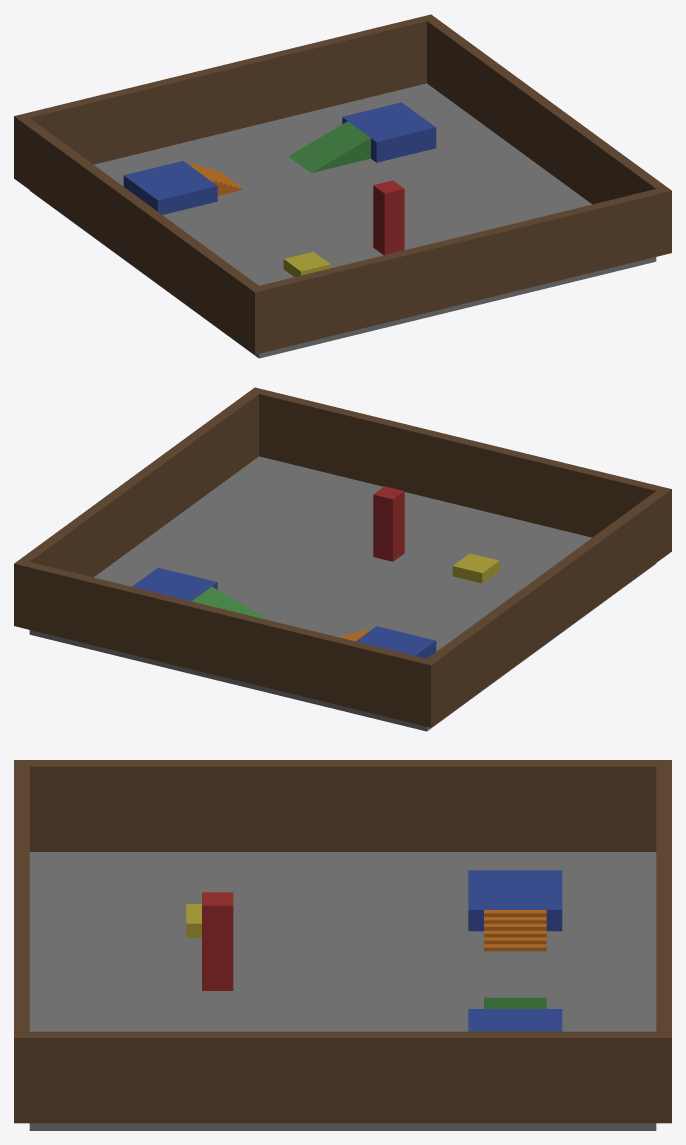
File: arena.glb
3 renders of one model, top to bottom at view 1: azimuth 30°, elevation 25°; view 2: azimuth 150°, elevation 25°; view 3: azimuth 270°, elevation 25°, orthographic. The views are drawn at different scales.
Visible parts, largest first — view 1: arena; view 2: arena; view 3: arena.
Part boxes in pixels (x1=…): arena: x1=14, y1=14, x2=671, y2=358; arena: x1=14, y1=387, x2=671, y2=731; arena: x1=14, y1=760, x2=671, y2=1130.
Bounding box in the file's own units: 42 × 7 × 42.
